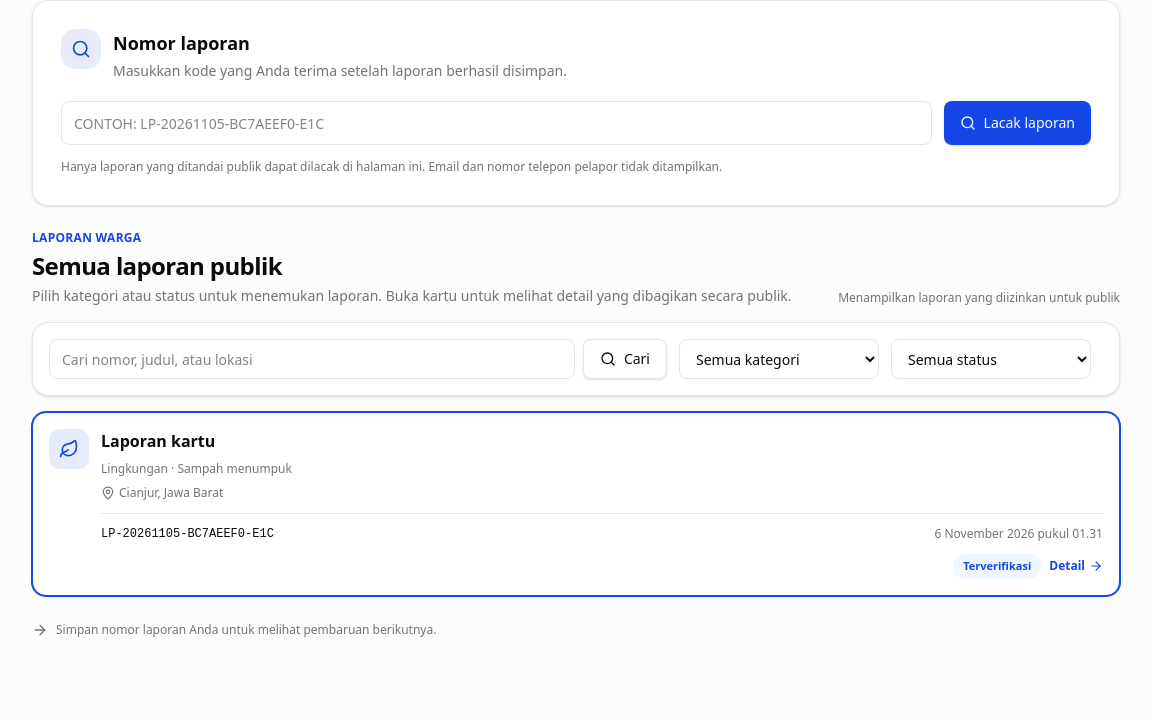
Test case: ReportTrackingPage › opens report details only after the user selects a public report card
The image size is (1152, 720).
(page scrolled)
Click the button "Laporan kartu": [576, 504] box [32, 412, 1120, 596]
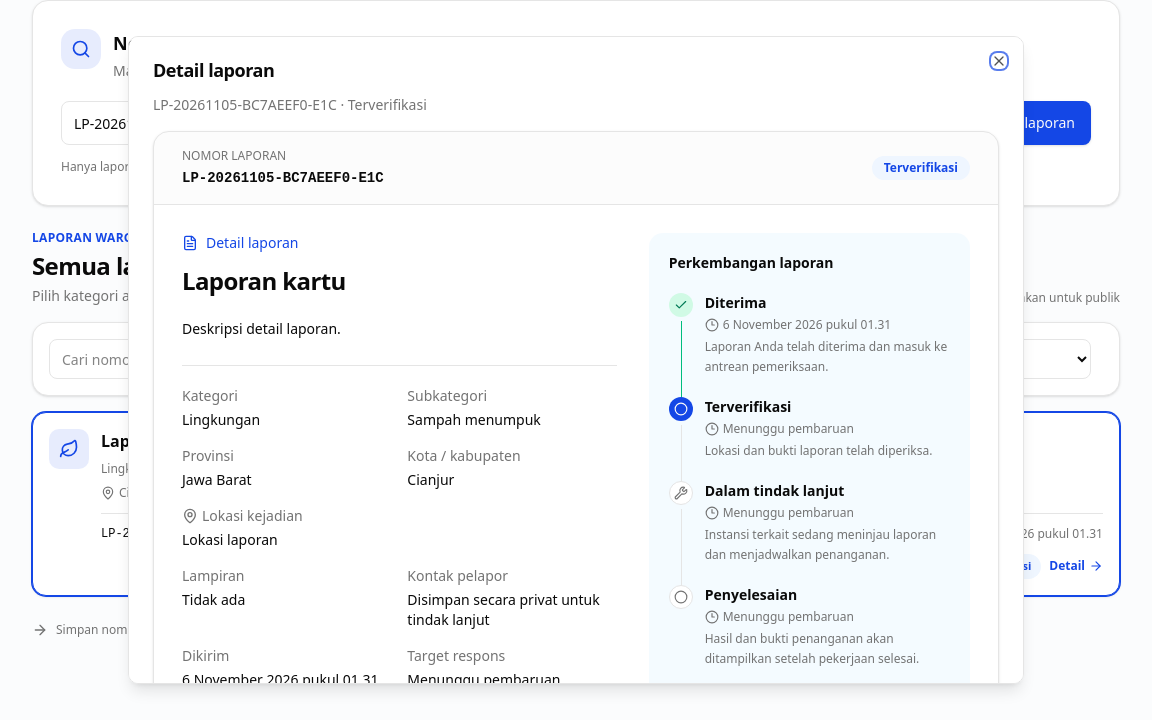
Expected: the dialog shows "Deskripsi detail laporan.", [182, 319, 341, 338]
Expected: the dialog shows "Sampah menumpuk", [407, 410, 541, 429]
